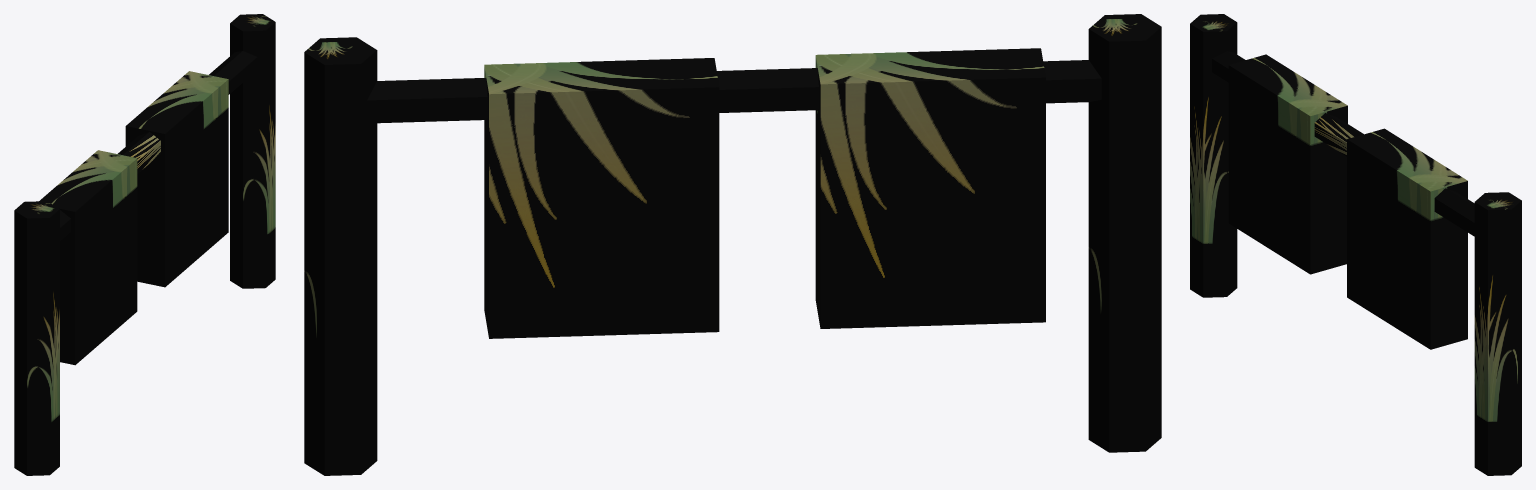
The model's file is Obj14_Monohoshi.fbx.
The picture shows the model from 3 angles, left to right: view 1: azimuth 30°, elevation 25°; view 2: azimuth 150°, elevation 25°; view 3: azimuth 270°, elevation 25°; orthographic projection. The views are drawn at different scales.
Parts seen in each view (by area): view 1: Obj14_Monohoshi; view 2: Obj14_Monohoshi; view 3: Obj14_Monohoshi.
Boxes of the visible parts, bbox=[...] form: Obj14_Monohoshi: bbox=[14, 14, 275, 475]; Obj14_Monohoshi: bbox=[304, 14, 1161, 475]; Obj14_Monohoshi: bbox=[1190, 14, 1521, 475].
Size of the model in its own units: 1.36 by 0.8602 by 0.9734.
